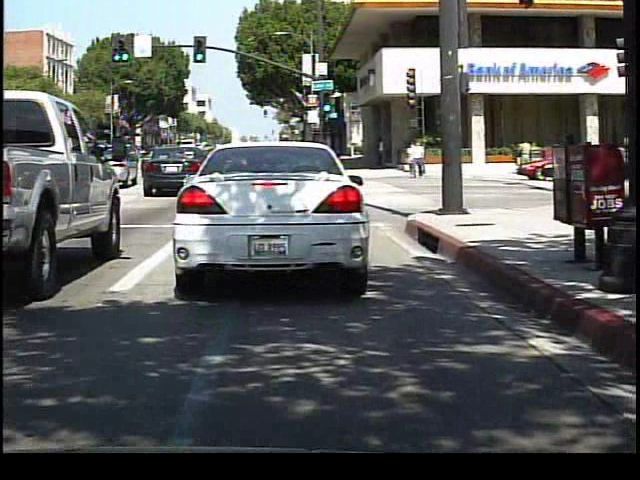person: (514, 135, 536, 177), (407, 136, 427, 179), (441, 136, 460, 175)
